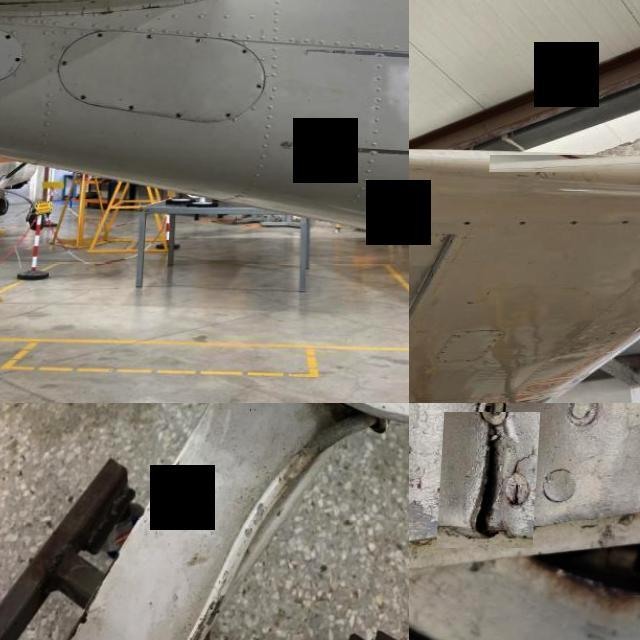Crack: (442, 412, 544, 548), (491, 155, 640, 171)
Missing_Fastener: (7, 34, 15, 40), (465, 222, 475, 226), (410, 222, 419, 226), (522, 222, 530, 226), (100, 33, 106, 38), (132, 105, 139, 109), (245, 50, 252, 54), (18, 58, 24, 62), (230, 113, 236, 117), (84, 95, 89, 99)
